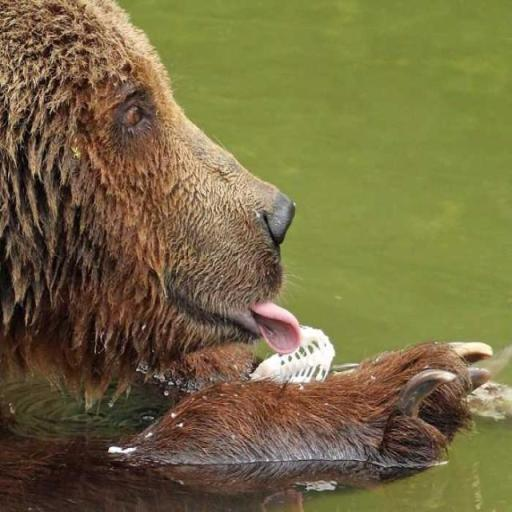Bear: (0, 0, 494, 481)
